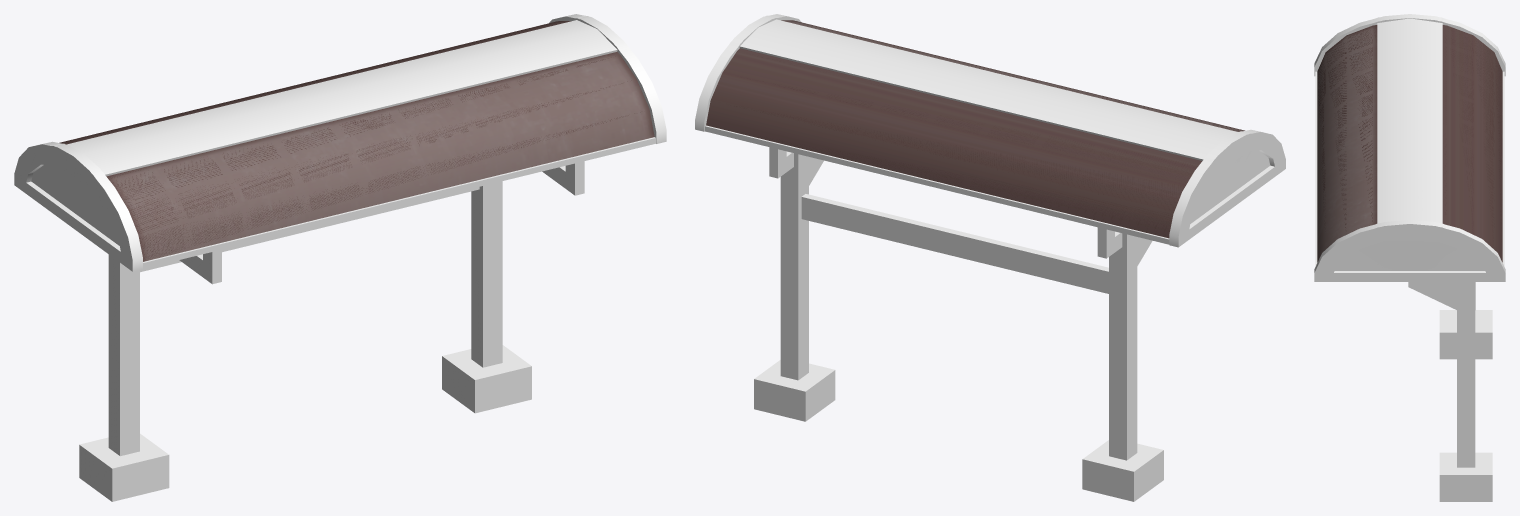
Rendered from objects_un_dlc1_t10busstop01.gltf.
3 renders of one model, left to right at view 1: azimuth 30°, elevation 25°; view 2: azimuth 150°, elevation 25°; view 3: azimuth 270°, elevation 25°, orthographic. The views are drawn at different scales.
Parts seen in each view (by area): view 1: um_objects_un_dlc1_t10busstop01_model_lod0Shape:objects_un_d (×2), um_objects_un_dlc1_t10busstop01_model_lod1Shape:objects_un_d, um_objects_un_dlc1_t10busstop01_model_lod0Shape:dlc1_t10buss, um_objects_un_dlc1_t10busstop01_model_lod1Shape:dlc1_t10buss, um_objects_un_dlc1_t10busstop01_model_lod2Shape:dlc1_t10buss; view 2: um_objects_un_dlc1_t10busstop01_model_lod0Shape:objects_un_d (×2), um_objects_un_dlc1_t10busstop01_model_lod1Shape:objects_un_d, um_objects_un_dlc1_t10busstop01_model_lod0Shape:dlc1_t10buss, um_objects_un_dlc1_t10busstop01_model_lod1Shape:dlc1_t10buss, um_objects_un_dlc1_t10busstop01_model_lod2Shape:dlc1_t10buss; view 3: um_objects_un_dlc1_t10busstop01_model_lod0Shape:objects_un_d (×2), um_objects_un_dlc1_t10busstop01_model_lod1Shape:objects_un_d, um_objects_un_dlc1_t10busstop01_model_lod0Shape:dlc1_t10buss, um_objects_un_dlc1_t10busstop01_model_lod1Shape:dlc1_t10buss, um_objects_un_dlc1_t10busstop01_model_lod2Shape:dlc1_t10buss.
Boxes of the visible parts, x1,y1,x2,y2 form: um_objects_un_dlc1_t10busstop01_model_lod0Shape:objects_un_d (×2): [14, 14, 666, 456]; um_objects_un_dlc1_t10busstop01_model_lod1Shape:objects_un_d: [62, 21, 653, 261]; um_objects_un_dlc1_t10busstop01_model_lod0Shape:dlc1_t10buss: [67, 20, 617, 501]; um_objects_un_dlc1_t10busstop01_model_lod1Shape:dlc1_t10buss: [21, 16, 651, 239]; um_objects_un_dlc1_t10busstop01_model_lod2Shape:dlc1_t10buss: [36, 15, 586, 284]; um_objects_un_dlc1_t10busstop01_model_lod0Shape:objects_un_d (×2): [695, 14, 1285, 460]; um_objects_un_dlc1_t10busstop01_model_lod1Shape:objects_un_d: [707, 21, 1244, 237]; um_objects_un_dlc1_t10busstop01_model_lod0Shape:dlc1_t10buss: [739, 19, 1238, 501]; um_objects_un_dlc1_t10busstop01_model_lod1Shape:dlc1_t10buss: [723, 15, 1280, 262]; um_objects_un_dlc1_t10busstop01_model_lod2Shape:dlc1_t10buss: [724, 41, 1249, 258]; um_objects_un_dlc1_t10busstop01_model_lod0Shape:objects_un_d (×2): [1314, 14, 1505, 467]; um_objects_un_dlc1_t10busstop01_model_lod1Shape:objects_un_d: [1317, 26, 1501, 261]; um_objects_un_dlc1_t10busstop01_model_lod0Shape:dlc1_t10buss: [1320, 18, 1492, 501]; um_objects_un_dlc1_t10busstop01_model_lod1Shape:dlc1_t10buss: [1323, 17, 1497, 308]; um_objects_un_dlc1_t10busstop01_model_lod2Shape:dlc1_t10buss: [1373, 17, 1468, 268].
Bounding box in the file's own units: 5.2 × 3.47 × 2.
Materials: 3 (1 with a texture image).
